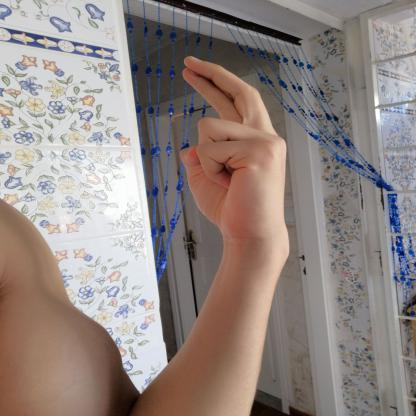ZAY: (167, 48, 300, 252)
